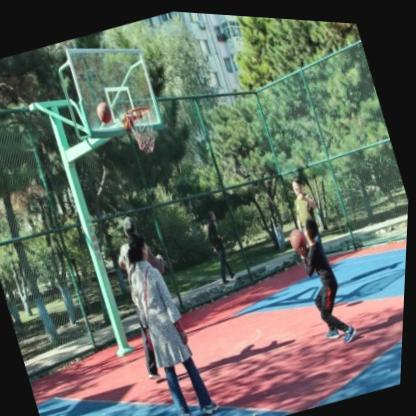basketball: (289, 222, 312, 250), (94, 99, 115, 125)
rim: (123, 102, 165, 156)
